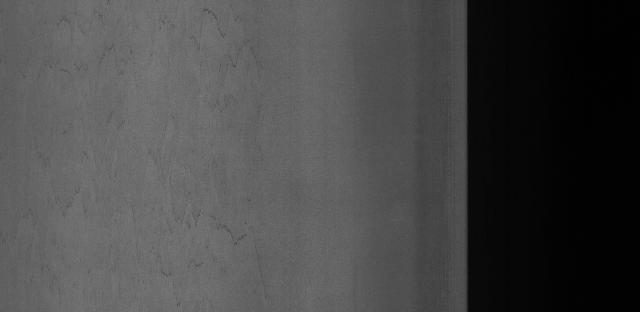silk_spot: (133, 26, 295, 229)
